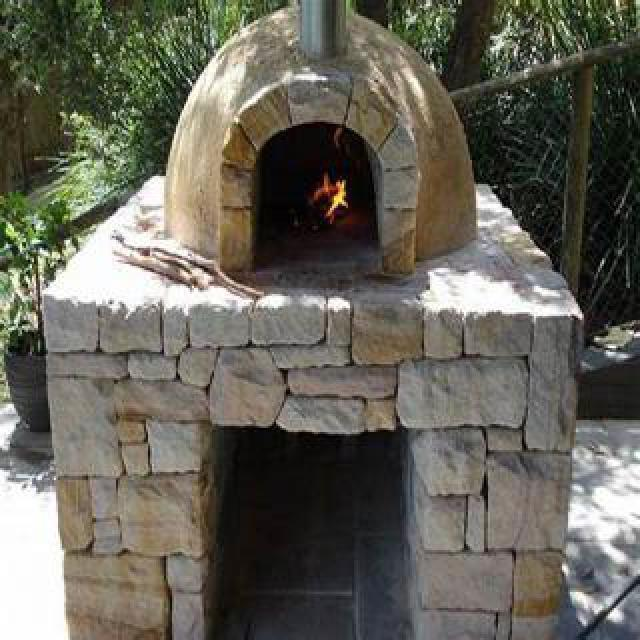Fire: (306, 160, 358, 232)
